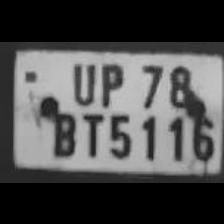1: (161, 110, 187, 162), (136, 110, 162, 160)
5: (104, 108, 134, 158)
6: (186, 113, 215, 163)
7: (133, 58, 163, 111)
8: (163, 62, 199, 112)
B: (44, 102, 78, 155)
P: (94, 59, 128, 107)
T: (78, 107, 104, 157)
U: (67, 57, 97, 104)
